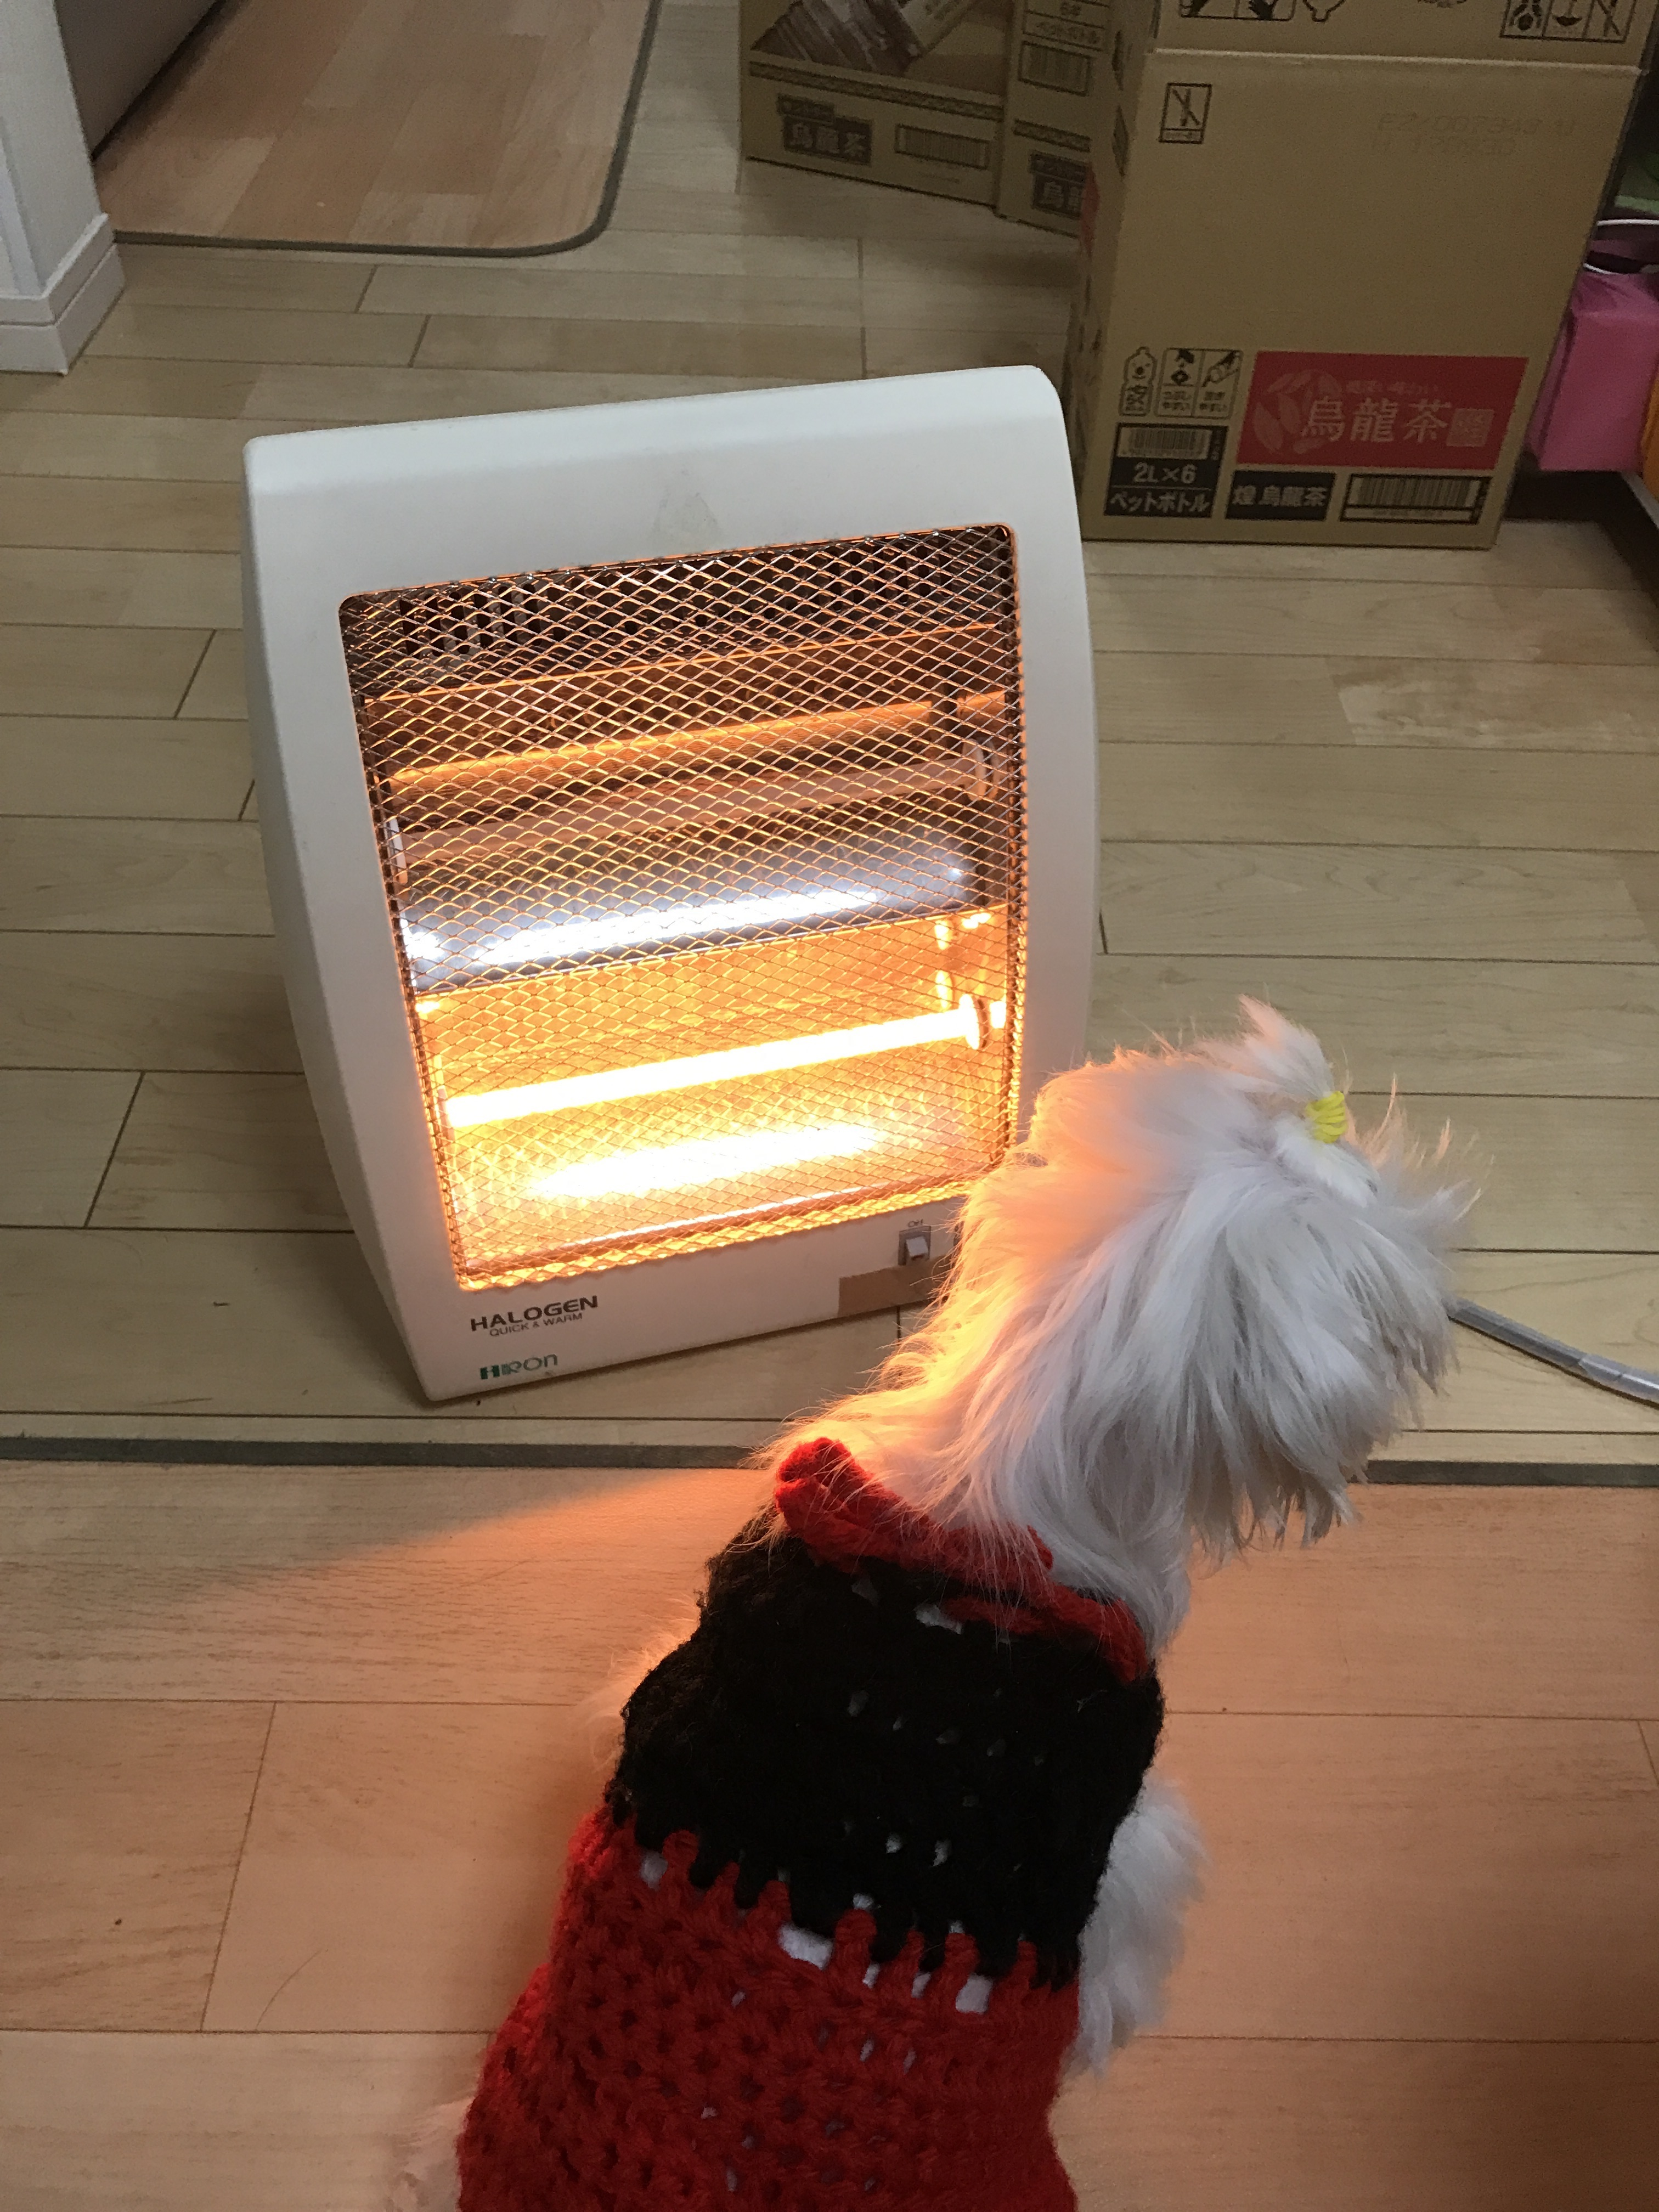dog: (396, 989, 1483, 2212)
